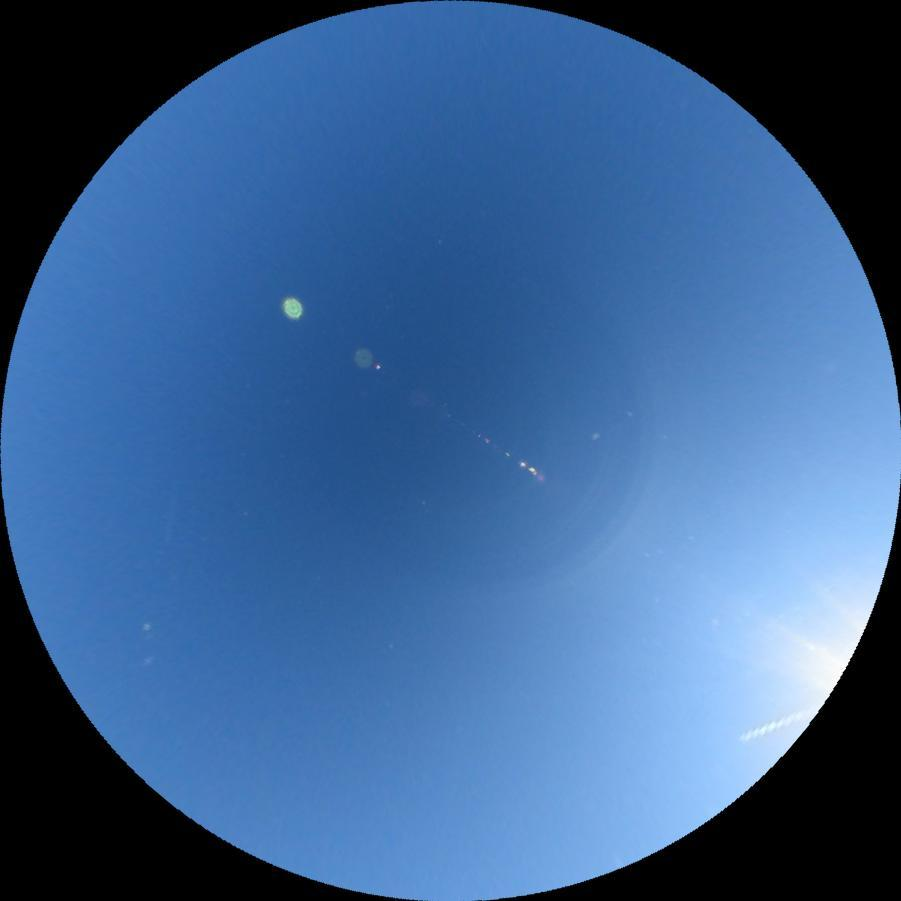contrail young: (733, 702, 819, 747), (164, 493, 176, 542)
